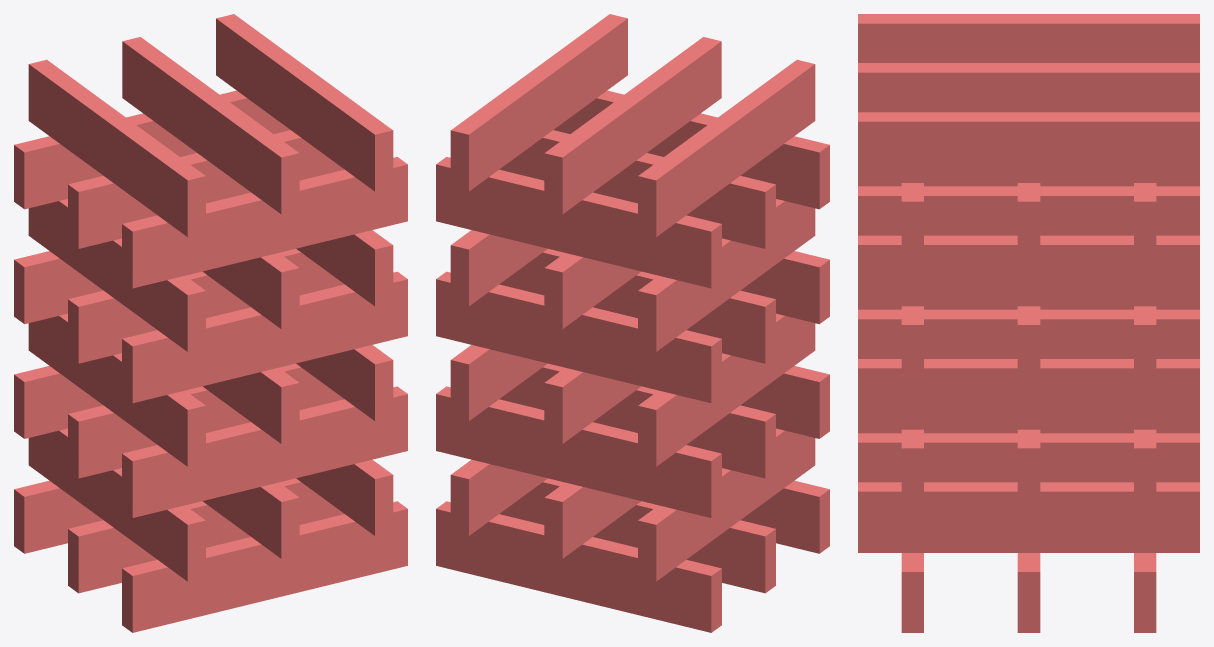
Rendered from keva_apartment_structure.dae.
3 views of the same model, side by side, from view 1: azimuth 30°, elevation 25°; view 2: azimuth 150°, elevation 25°; view 3: azimuth 270°, elevation 25° (orthographic). The views are drawn at different scales.
Parts seen in each view (by area): view 1: base (×24); view 2: base (×24); view 3: base (×24).
Boxes of the visible parts, x1,y1,x2,y2 form: base (×24): (14, 14, 407, 632); base (×24): (436, 14, 829, 632); base (×24): (858, 14, 1199, 632).
Size of the model in its own units: 0.1177 by 0.1177 by 0.1873.
